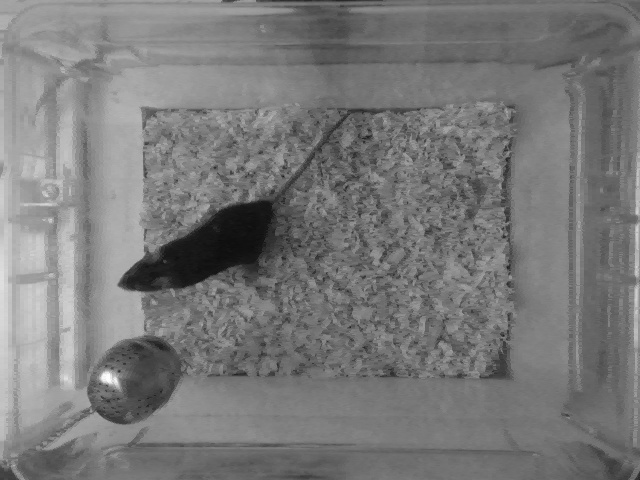mice: (115, 104, 366, 295)
